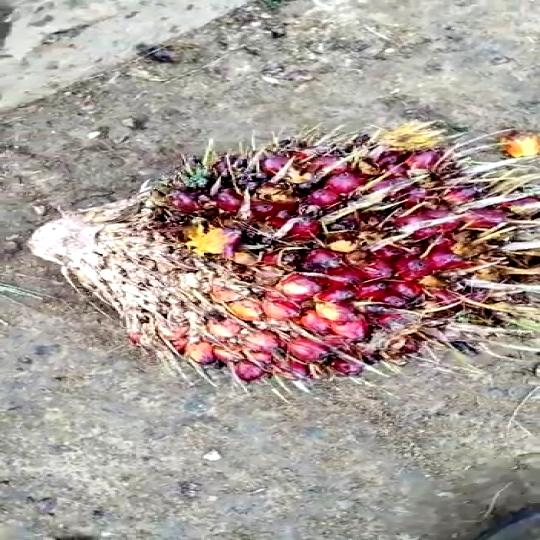masak: (22, 130, 540, 380)
